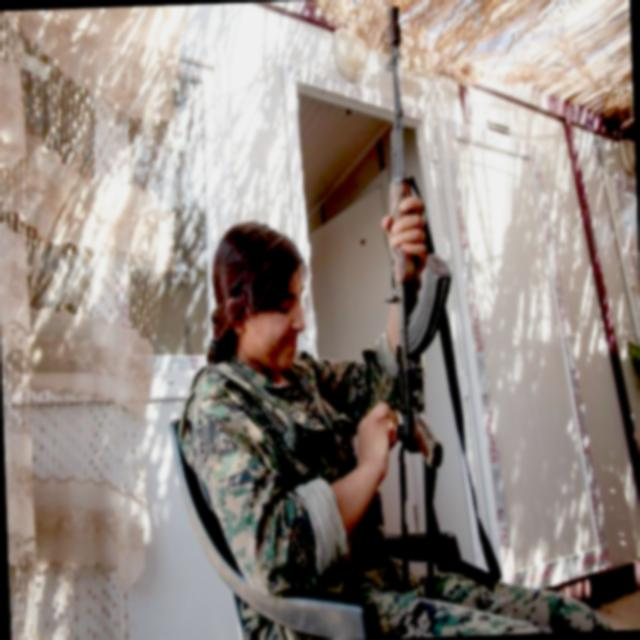ak: (358, 29, 459, 600)
